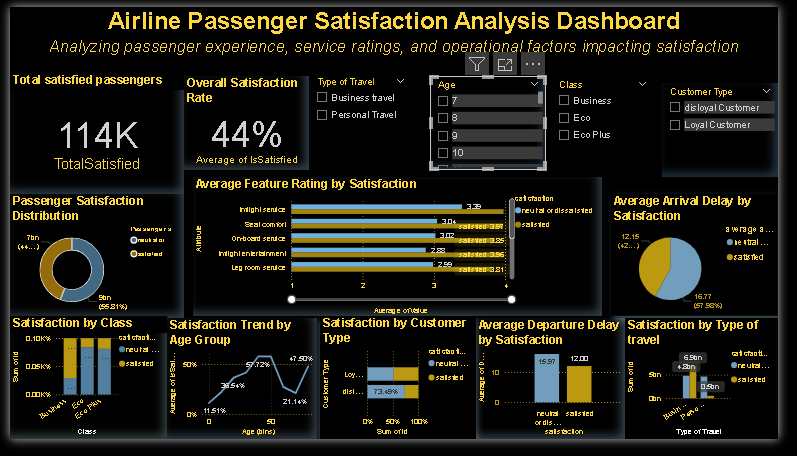

The dashboard page shown, as its layout file describes it:
{"tool":"powerbi","page":{"name":"Page 1","canvas":[1280,720],"ordinal":0},"visuals":[{"type":"card","title":"Total satisfied passengers","fields":{"Values":["test.TotalSatisfied"]},"box":[0,110,290,201.7],"z":0},{"type":"donutChart","title":"Passenger Satisfaction Distribution","fields":{"Category":["test.satisfaction"],"Y":["Sum(test.id)"]},"box":[0,311.7,290,206.7],"z":1000},{"type":"hundredPercentStackedColumnChart","title":"Satisfaction by Class","fields":{"Category":["test.Class"],"Series":["test.satisfaction"],"Y":["Sum(test.id)"]},"box":[0,515,261.7,205],"z":2000},{"type":"clusteredColumnChart","title":"Average Departure Delay by Satisfaction","fields":{"Category":["test.satisfaction"],"Y":["Avg(test.Departure Delay in Minutes)"]},"box":[776.7,518.3,248.3,201.7],"z":3000},{"type":"pieChart","title":"Average Arrival Delay by Satisfaction","fields":{"Category":["test.satisfaction"],"Y":["Avg(test.Arrival Delay in Minutes)"]},"box":[1001.7,311.7,278.3,203.3],"z":4000},{"type":"clusteredBarChart","title":"Average Feature Rating by Satisfaction","fields":{"Category":["test.Attribute"],"Y":["Avg(test.Value)"],"Series":["test.satisfaction"]},"box":[305,283.3,681.7,231.7],"z":5000},{"type":"hundredPercentStackedBarChart","title":"Satisfaction by Customer Type","fields":{"Category":["test.Customer Type"],"Y":["Sum(test.id)"],"Series":["test.satisfaction"]},"box":[516.7,515,260,205],"z":6000},{"type":"lineClusteredColumnComboChart","title":"Satisfaction by Type of travel","fields":{"Category":["test.Type of Travel"],"Y":["Sum(test.id)"],"Series":["test.satisfaction"]},"box":[1025,518.3,255,201.7],"z":7000},{"type":"lineChart","title":"Satisfaction Trend by Age Group","fields":{"Y":["Avg(test.IsSatisfied)"],"Category":["test.Age (bins)"]},"box":[261.7,518.3,250,201.7],"z":8000},{"type":"textbox","title":"Airline Passenger Satisfaction Analysis Dashboard","box":[50,0,1180,88.3],"z":9000},{"type":"card","title":"Overall Satisfaction Rate","fields":{"Values":["Avg(test.IsSatisfied)"]},"box":[290,115,208.3,156.7],"z":10000},{"type":"slicer","fields":{"Values":["test.Type of Travel"]},"box":[498.3,110,171.7,156.7],"z":11000},{"type":"slicer","fields":{"Values":["test.Age"]},"box":[700,115,193.3,156.7],"z":12000},{"type":"slicer","fields":{"Values":["test.Class"]},"box":[901.7,115,171.7,156.7],"z":12001},{"type":"slicer","fields":{"Values":["test.Customer Type"]},"box":[1086.7,126.7,193.3,156.7],"z":12002}]}

Visuals, with their boxes in screenshot pixels (x1, y1, x2, y2), scaled from the page's 1280x720 canvas onto the 797x456 screenshot:
"Total satisfied passengers" card: 0 70 181 197
"Passenger Satisfaction Distribution" donutChart: 0 197 181 328
"Satisfaction by Class" hundredPercentStackedColumnChart: 0 326 163 455
"Average Departure Delay by Satisfaction" clusteredColumnChart: 484 328 638 455
"Average Arrival Delay by Satisfaction" pieChart: 624 197 796 326
"Average Feature Rating by Satisfaction" clusteredBarChart: 190 179 614 326
"Satisfaction by Customer Type" hundredPercentStackedBarChart: 322 326 484 455
"Satisfaction by Type of travel" lineClusteredColumnComboChart: 638 328 796 455
"Satisfaction Trend by Age Group" lineChart: 163 328 319 455
"Airline Passenger Satisfaction Analysis Dashboard" textbox: 31 0 766 56
"Overall Satisfaction Rate" card: 181 73 310 172
slicer - test.Type of Travel: 310 70 417 169
slicer - test.Age: 436 73 556 172
slicer - test.Class: 561 73 668 172
slicer - test.Customer Type: 677 80 796 179
